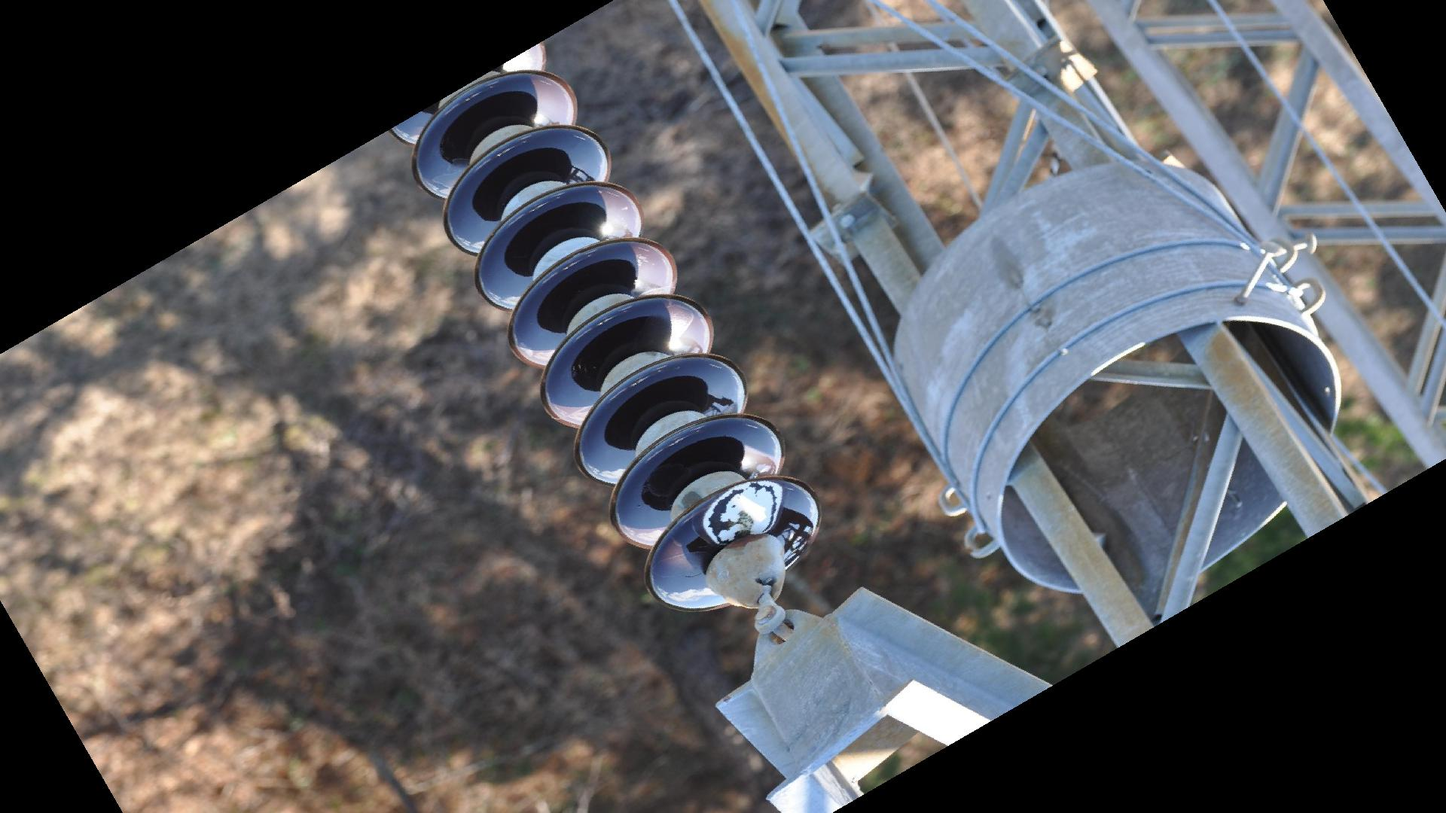insulator: (384, 38, 825, 618)
insulator_flashover: (700, 478, 785, 547)
